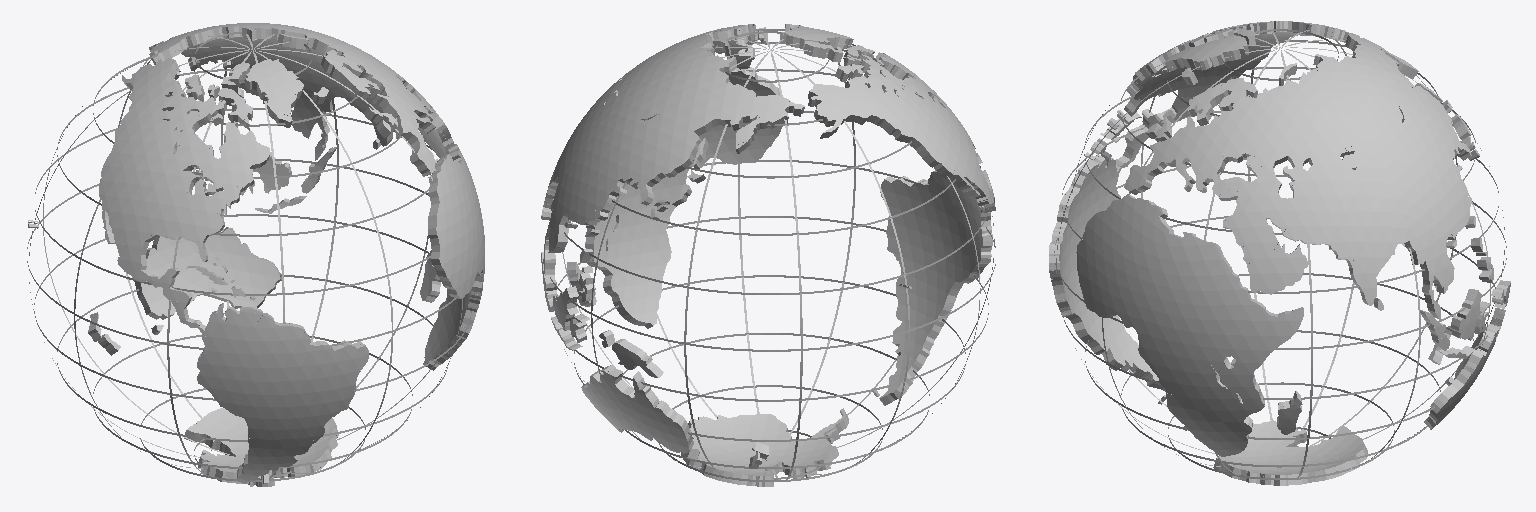
The model's file is countries.obj.
3 renders of one model, left to right at view 1: azimuth 30°, elevation 25°; view 2: azimuth 150°, elevation 25°; view 3: azimuth 270°, elevation 25°, orthographic.
Visible parts, largest first — view 1: ybmha1zfwuy1; view 2: ybmha1zfwuy1; view 3: ybmha1zfwuy1.
Boxes of the visible parts, x1=… form: ybmha1zfwuy1: x1=27, y1=23, x2=484, y2=486; ybmha1zfwuy1: x1=541, y1=24, x2=995, y2=486; ybmha1zfwuy1: x1=1049, y1=21, x2=1510, y2=485.
Size of the model in its own units: 6.78 by 6.84 by 6.84.